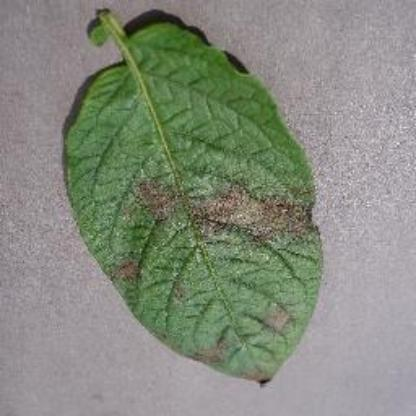Late-Blight: (49, 6, 330, 400)
